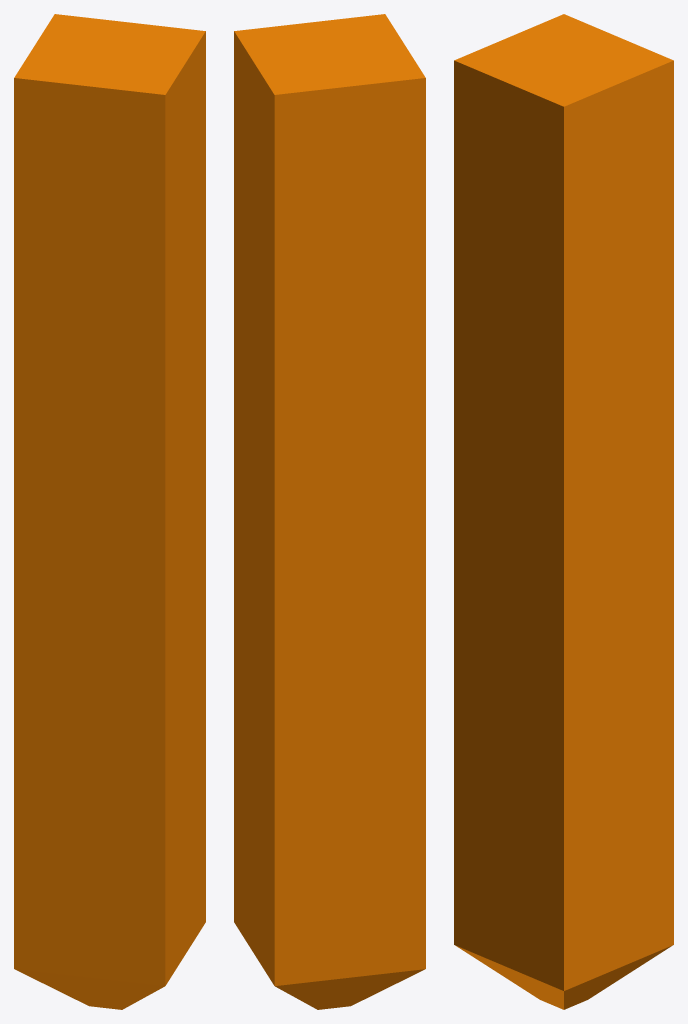
File: Exc_Motor_5203_2402_0188_54.obj
3 renders of one model, left to right at view 1: azimuth 30°, elevation 25°; view 2: azimuth 150°, elevation 25°; view 3: azimuth 270°, elevation 25°, orthographic.
Visible parts, largest first — view 1: mesh28608; view 2: mesh28608; view 3: mesh28608.
Part boxes in pixels (left/top/right/bottom): mesh28608: left=14, top=14, right=205, bottom=1009; mesh28608: left=234, top=14, right=425, bottom=1009; mesh28608: left=454, top=14, right=673, bottom=1009.
Bounding box in the file's own units: 0.000905 × 0.00427 × 0.000905.
